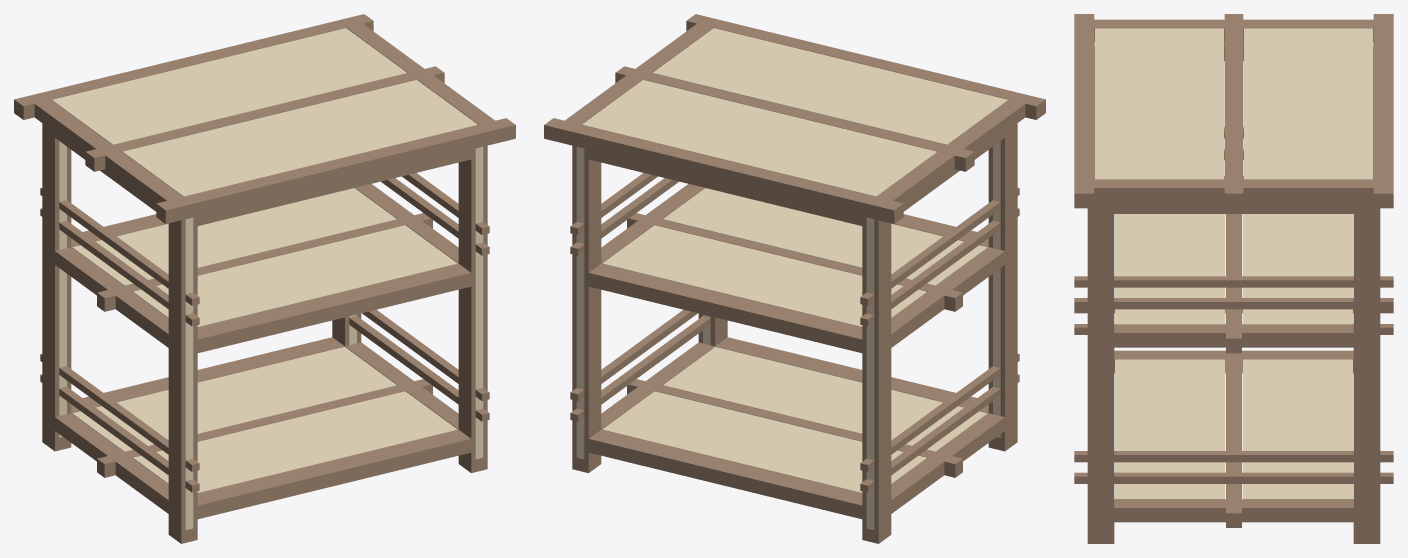
The picture shows the model from 3 angles, left to right: view 1: azimuth 30°, elevation 25°; view 2: azimuth 150°, elevation 25°; view 3: azimuth 270°, elevation 25°; orthographic projection. The views are drawn at different scales.
Visible parts, largest first — view 1: P071 Top plain maple panel, P070 Top plain maple panel, P040 Lower plain maple panel, P049 Middle plain maple panel, P041 Lower plain maple panel, P050 Middle plain maple panel, P063 Top projecting front/back border, P042 Middle front/back rail, P033 Lower front/back rail, P002 Leg 11 walnut cheek, P010 Leg 12 walnut cheek, P018 Leg 21 walnut cheek (+35 smaller); view 2: P070 Top plain maple panel, P071 Top plain maple panel, P041 Lower plain maple panel, P050 Middle plain maple panel, P040 Lower plain maple panel, P049 Middle plain maple panel, P064 Top projecting front/back border, P043 Middle front/back rail, P034 Lower front/back rail, P010 Leg 12 walnut cheek, P002 Leg 11 walnut cheek, P026 Leg 22 walnut cheek (+35 smaller); view 3: P070 Top plain maple panel, P071 Top plain maple panel, P040 Lower plain maple panel, P041 Lower plain maple panel, P049 Middle plain maple panel, P050 Middle plain maple panel, P019 Leg 21 walnut cheek, P027 Leg 22 walnut cheek, P063 Top projecting front/back border, P064 Top projecting front/back border, P069 Top projecting crossbar, P055 Through side bar with exposed ends (+18 smaller).
Boxes of the visible parts, x1,y1,x2,y2 form: P071 Top plain maple panel: (52,28,406,144); P070 Top plain maple panel: (123,80,477,196); P040 Lower plain maple panel: (133,391,457,492); P049 Middle plain maple panel: (133,225,457,326); P041 Lower plain maple panel: (72,347,396,451); P050 Middle plain maple panel: (72,188,396,285); P063 Top projecting front/back border: (156,118,515,223); P042 Middle front/back rail: (197,263,471,352); P033 Lower front/back rail: (197,429,471,519); P002 Leg 11 walnut cheek: (168,219,185,531); P010 Leg 12 walnut cheek: (42,123,59,438); P018 Leg 21 walnut cheek: (458,148,475,460); P070 Top plain maple panel: (653,28,1007,144); P071 Top plain maple panel: (582,80,936,196); P041 Lower plain maple panel: (602,391,926,492); P050 Middle plain maple panel: (602,225,926,326); P040 Lower plain maple panel: (663,347,987,451); P049 Middle plain maple panel: (663,188,987,285); P064 Top projecting front/back border: (544,118,903,223); P043 Middle front/back rail: (588,263,862,352); P034 Lower front/back rail: (588,429,862,519); P010 Leg 12 walnut cheek: (874,219,891,531); P002 Leg 11 walnut cheek: (1000,123,1017,438); P026 Leg 22 walnut cheek: (584,148,601,460); P070 Top plain maple panel: (1095,28,1223,179); P071 Top plain maple panel: (1244,28,1372,179); P040 Lower plain maple panel: (1115,359,1225,499); P041 Lower plain maple panel: (1242,359,1352,499); P049 Middle plain maple panel: (1115,214,1225,324); P050 Middle plain maple panel: (1242,214,1352,324); P019 Leg 21 walnut cheek: (1087,202,1114,530); P027 Leg 22 walnut cheek: (1353,202,1380,530); P063 Top projecting front/back border: (1074,14,1094,208); P064 Top projecting front/back border: (1373,14,1393,208); P069 Top projecting crossbar: (1224,14,1243,208); P055 Through side bar with exposed ends: (1074,472,1393,483).
Size of the model in its own units: 0.64 by 0.6 by 0.48.
